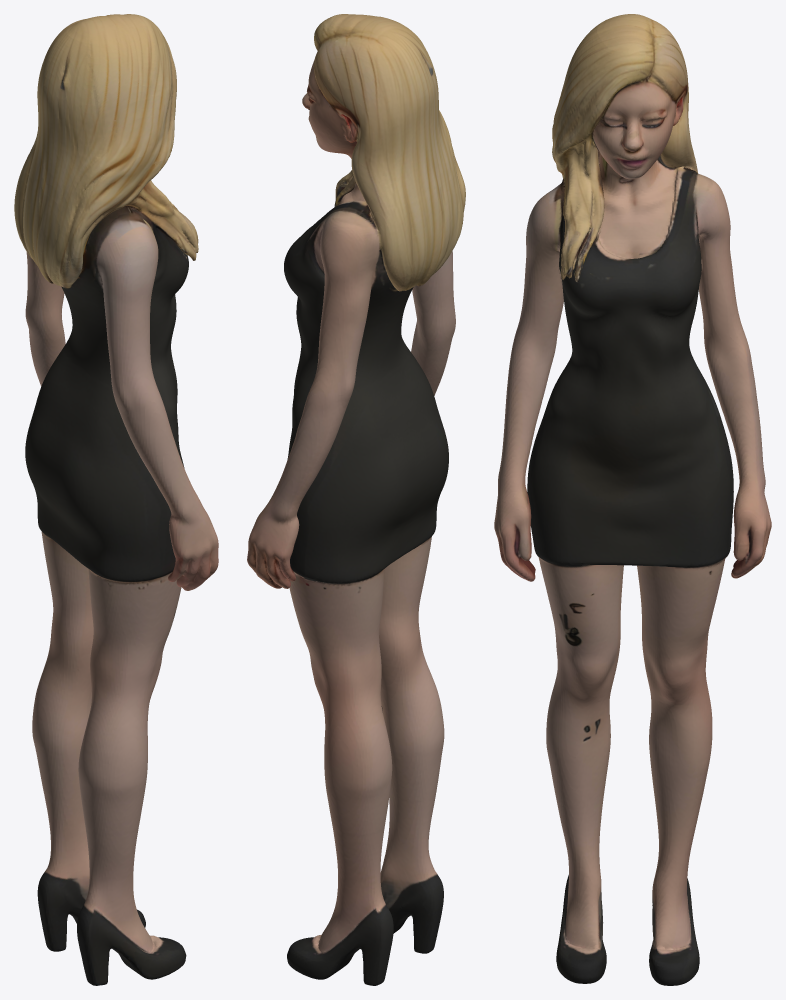
Rendered from Corpo.glb.
3 renders of one model, left to right at view 1: azimuth 30°, elevation 25°; view 2: azimuth 150°, elevation 25°; view 3: azimuth 270°, elevation 25°, orthographic.
Visible parts, largest first — view 1: tripo_node_3d93c9c8-ad5a-46c6-b96d-06da74f8bafb; view 2: tripo_node_3d93c9c8-ad5a-46c6-b96d-06da74f8bafb; view 3: tripo_node_3d93c9c8-ad5a-46c6-b96d-06da74f8bafb.
Boxes of the visible parts, x1,y1,x2,y2 form: tripo_node_3d93c9c8-ad5a-46c6-b96d-06da74f8bafb: (14,14,218,985); tripo_node_3d93c9c8-ad5a-46c6-b96d-06da74f8bafb: (247,14,465,985); tripo_node_3d93c9c8-ad5a-46c6-b96d-06da74f8bafb: (494,14,771,985).
Size of the model in its own units: 0.1525 by 1 by 0.2682.
1 material, 1 textured.
